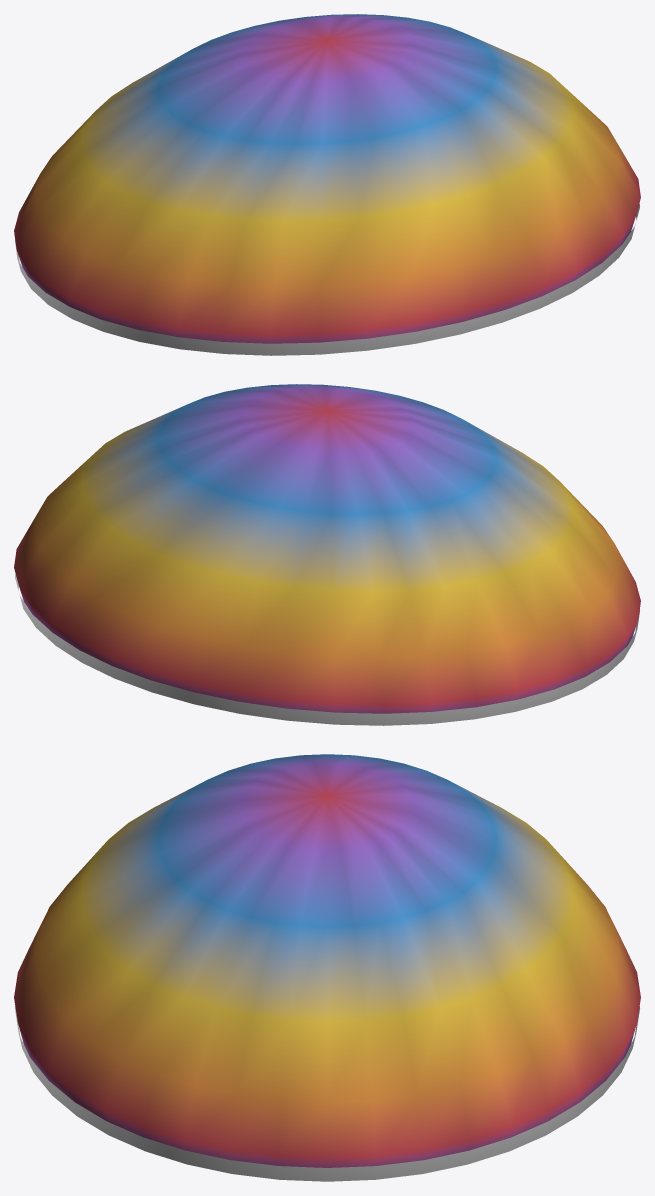
File: house_roof_thatch_rainbow.glb
3 views of the same model, one above another, from view 1: azimuth 30°, elevation 25°; view 2: azimuth 150°, elevation 25°; view 3: azimuth 270°, elevation 25° (orthographic). The views are drawn at different scales.
Visible parts, largest first — view 1: house_roof_thatch_rainbow_house_roof_rainbow, house_roof_thatch_rainbow_house_trim; view 2: house_roof_thatch_rainbow_house_roof_rainbow, house_roof_thatch_rainbow_house_trim; view 3: house_roof_thatch_rainbow_house_roof_rainbow, house_roof_thatch_rainbow_house_trim.
Boxes of the visible parts, x1,y1,x2,y2 form: house_roof_thatch_rainbow_house_roof_rainbow: (14,14,640,343); house_roof_thatch_rainbow_house_trim: (15,203,639,355); house_roof_thatch_rainbow_house_roof_rainbow: (14,384,640,713); house_roof_thatch_rainbow_house_trim: (15,573,639,725); house_roof_thatch_rainbow_house_roof_rainbow: (14,754,640,1167); house_roof_thatch_rainbow_house_trim: (15,1006,639,1181).
Size of the model in its own units: 3.53 by 1.17 by 2.92.
